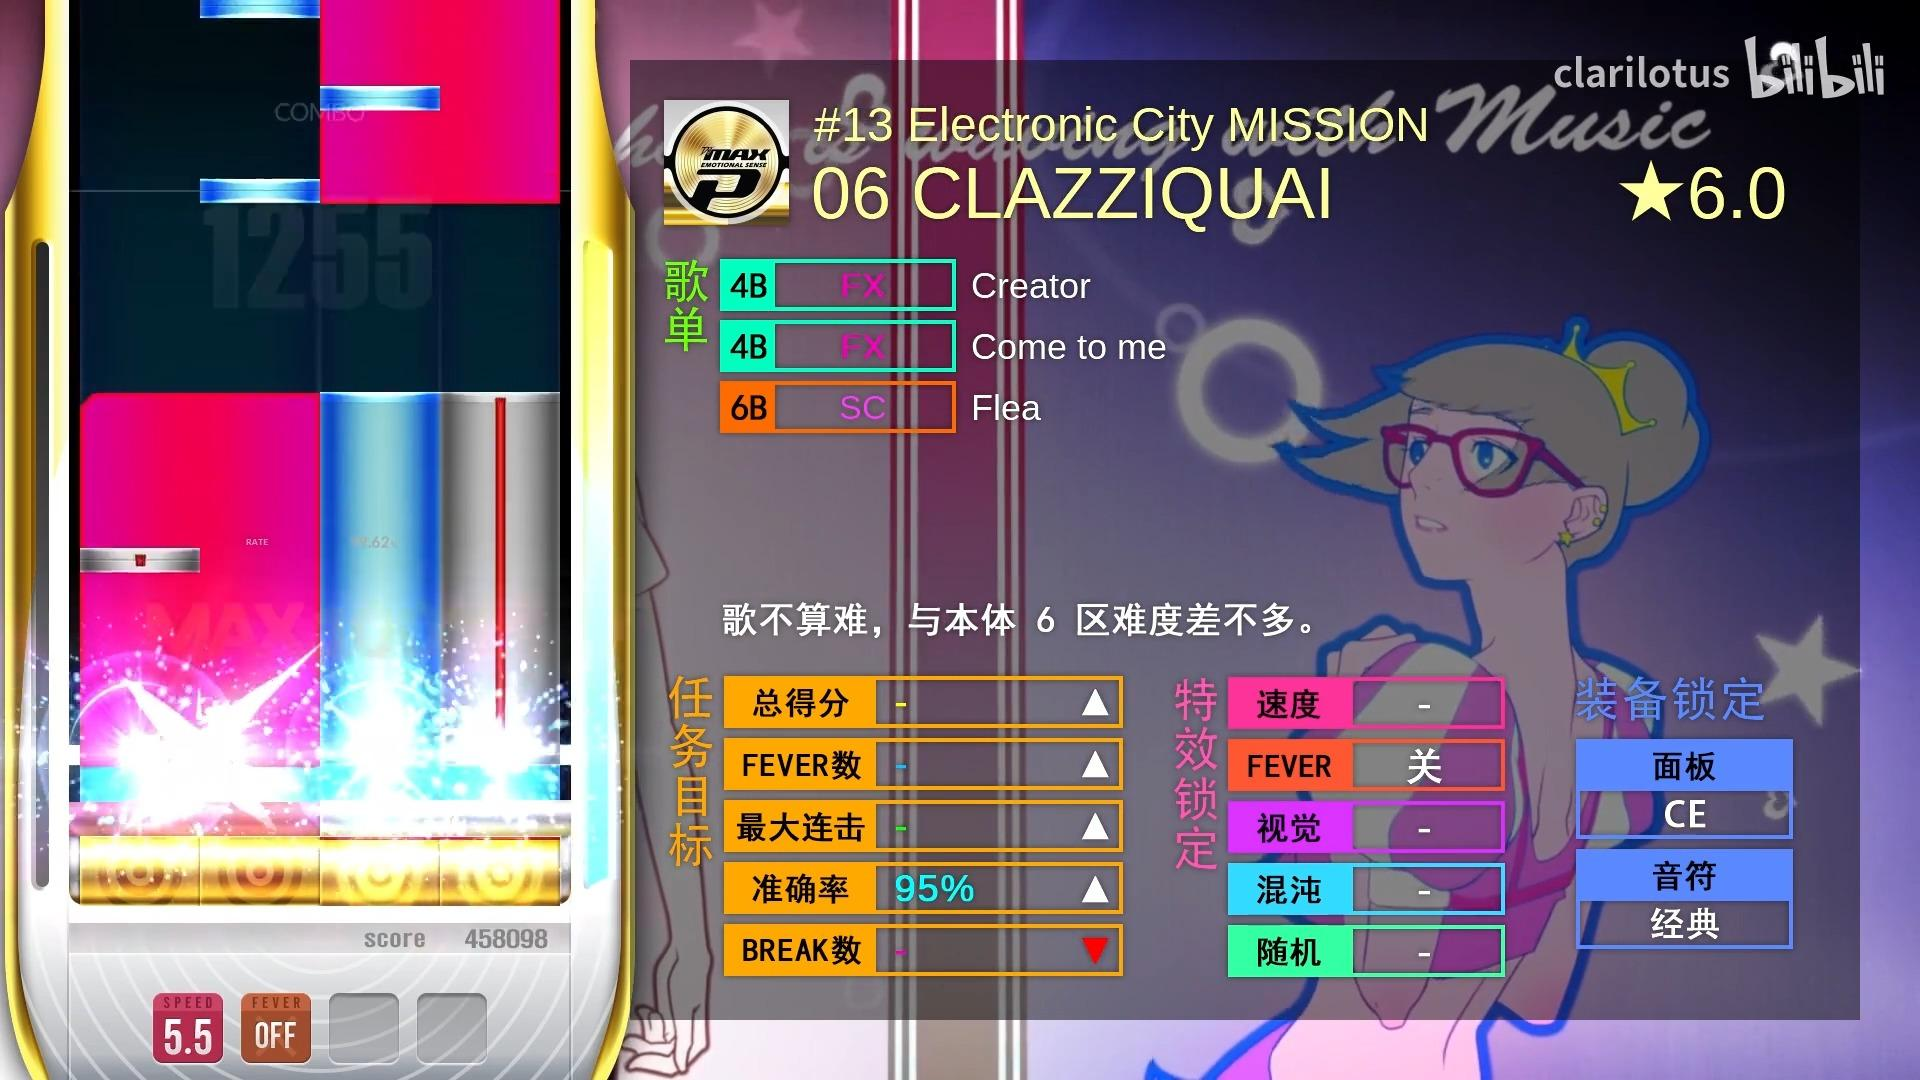hold-end: (320, 392, 440, 419), (442, 392, 560, 419)
note: (199, 178, 320, 204), (320, 84, 440, 111), (80, 549, 200, 574), (199, 0, 319, 17)
xend: (80, 392, 319, 419)
xstart: (319, 173, 560, 204)
